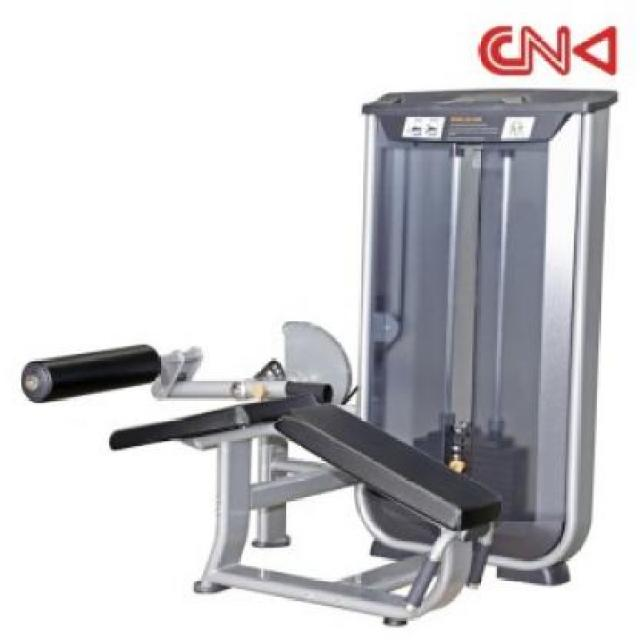reg curl machine: (17, 78, 625, 634)
